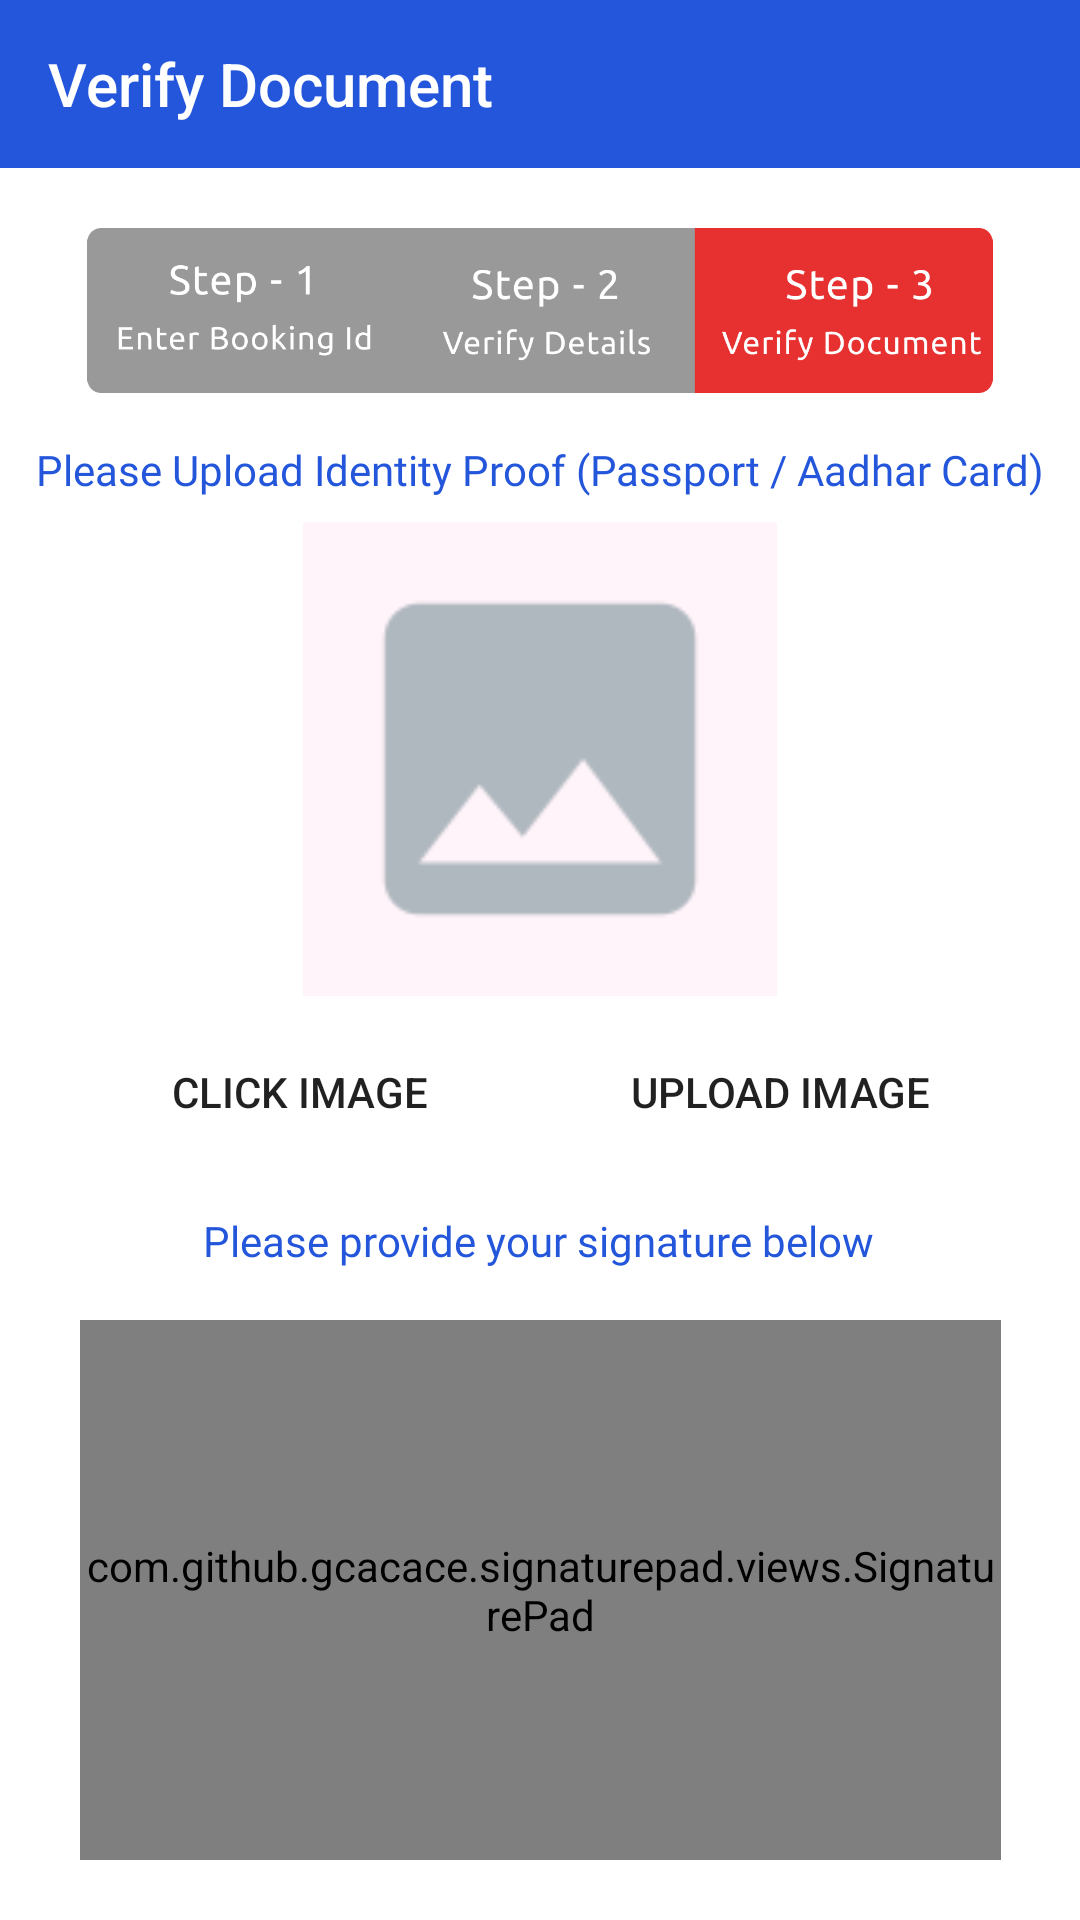

Icon bounding boxes for this 1080*1920 phone screenshot, format (x1, y1, x2, y2):
noimage: (383, 602, 697, 916)
